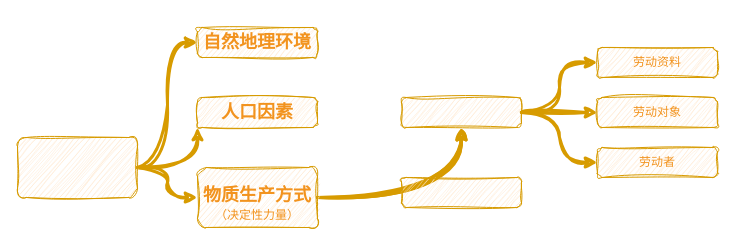
Some shapes in this 735 by 245 pixel diagram are drawn without their labels. The shapes that lost their labels are listed below. From the top down, each one's box as (x1, y1, x2, y2) in pixels, then its label:
(400, 96, 522, 128): 生产力
(16, 136, 138, 198): 社会存在
(400, 176, 522, 208): 生产关系
